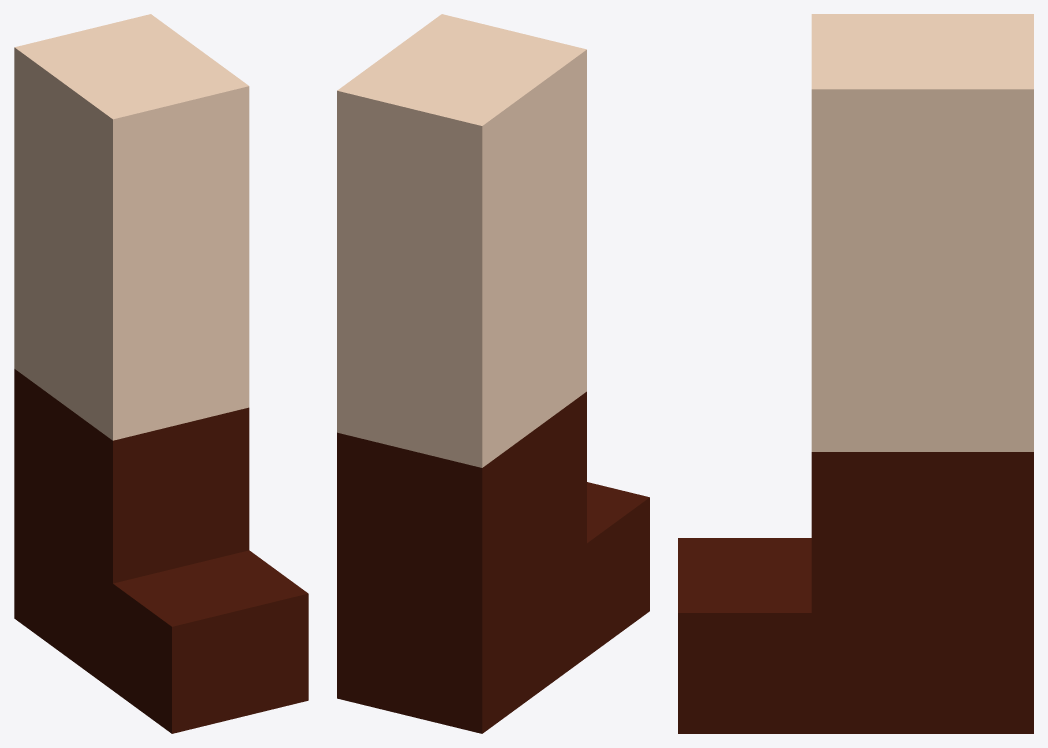
File: enemy_001-6.obj
The picture shows the model from 3 angles, left to right: view 1: azimuth 30°, elevation 25°; view 2: azimuth 150°, elevation 25°; view 3: azimuth 270°, elevation 25°; orthographic projection. The views are drawn at different scales.
Size of the model in its own units: 0.4 by 1.6 by 0.8.
1 material, 1 textured.
